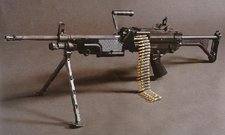rifle: (4, 10, 221, 123)
